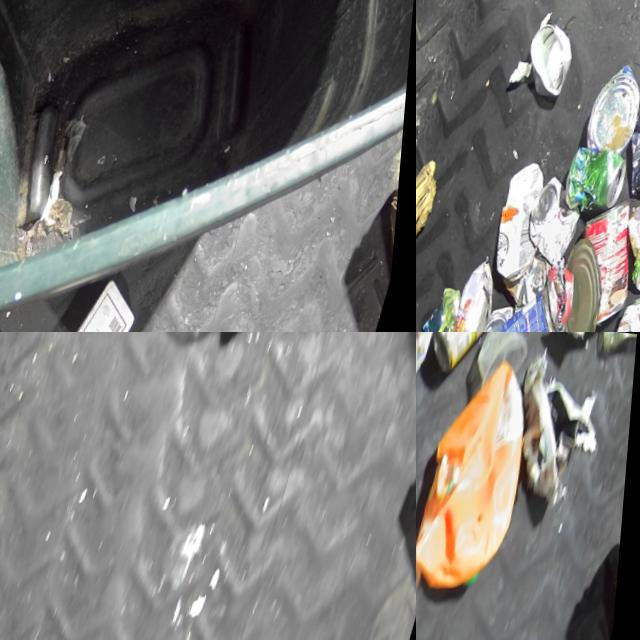can: (563, 196, 640, 332), (523, 173, 597, 275), (546, 238, 626, 332), (564, 144, 639, 224), (519, 19, 585, 106), (477, 278, 583, 332), (583, 61, 640, 160), (417, 332, 502, 393), (452, 257, 512, 332), (617, 69, 640, 207), (591, 336, 639, 374), (482, 303, 522, 332), (624, 197, 640, 267)
non_white_jug: (416, 342, 559, 620)
